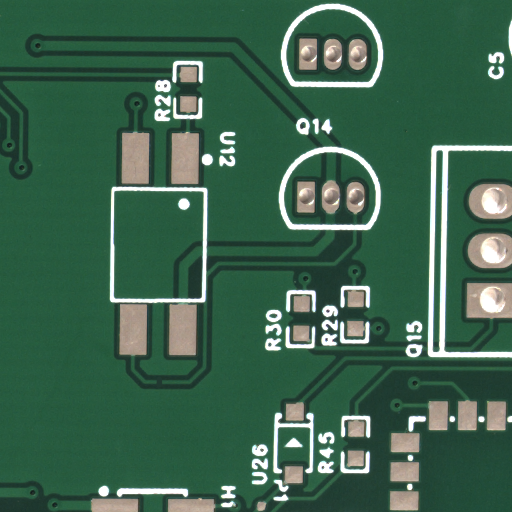Open_circuit: (159, 379, 167, 388)
